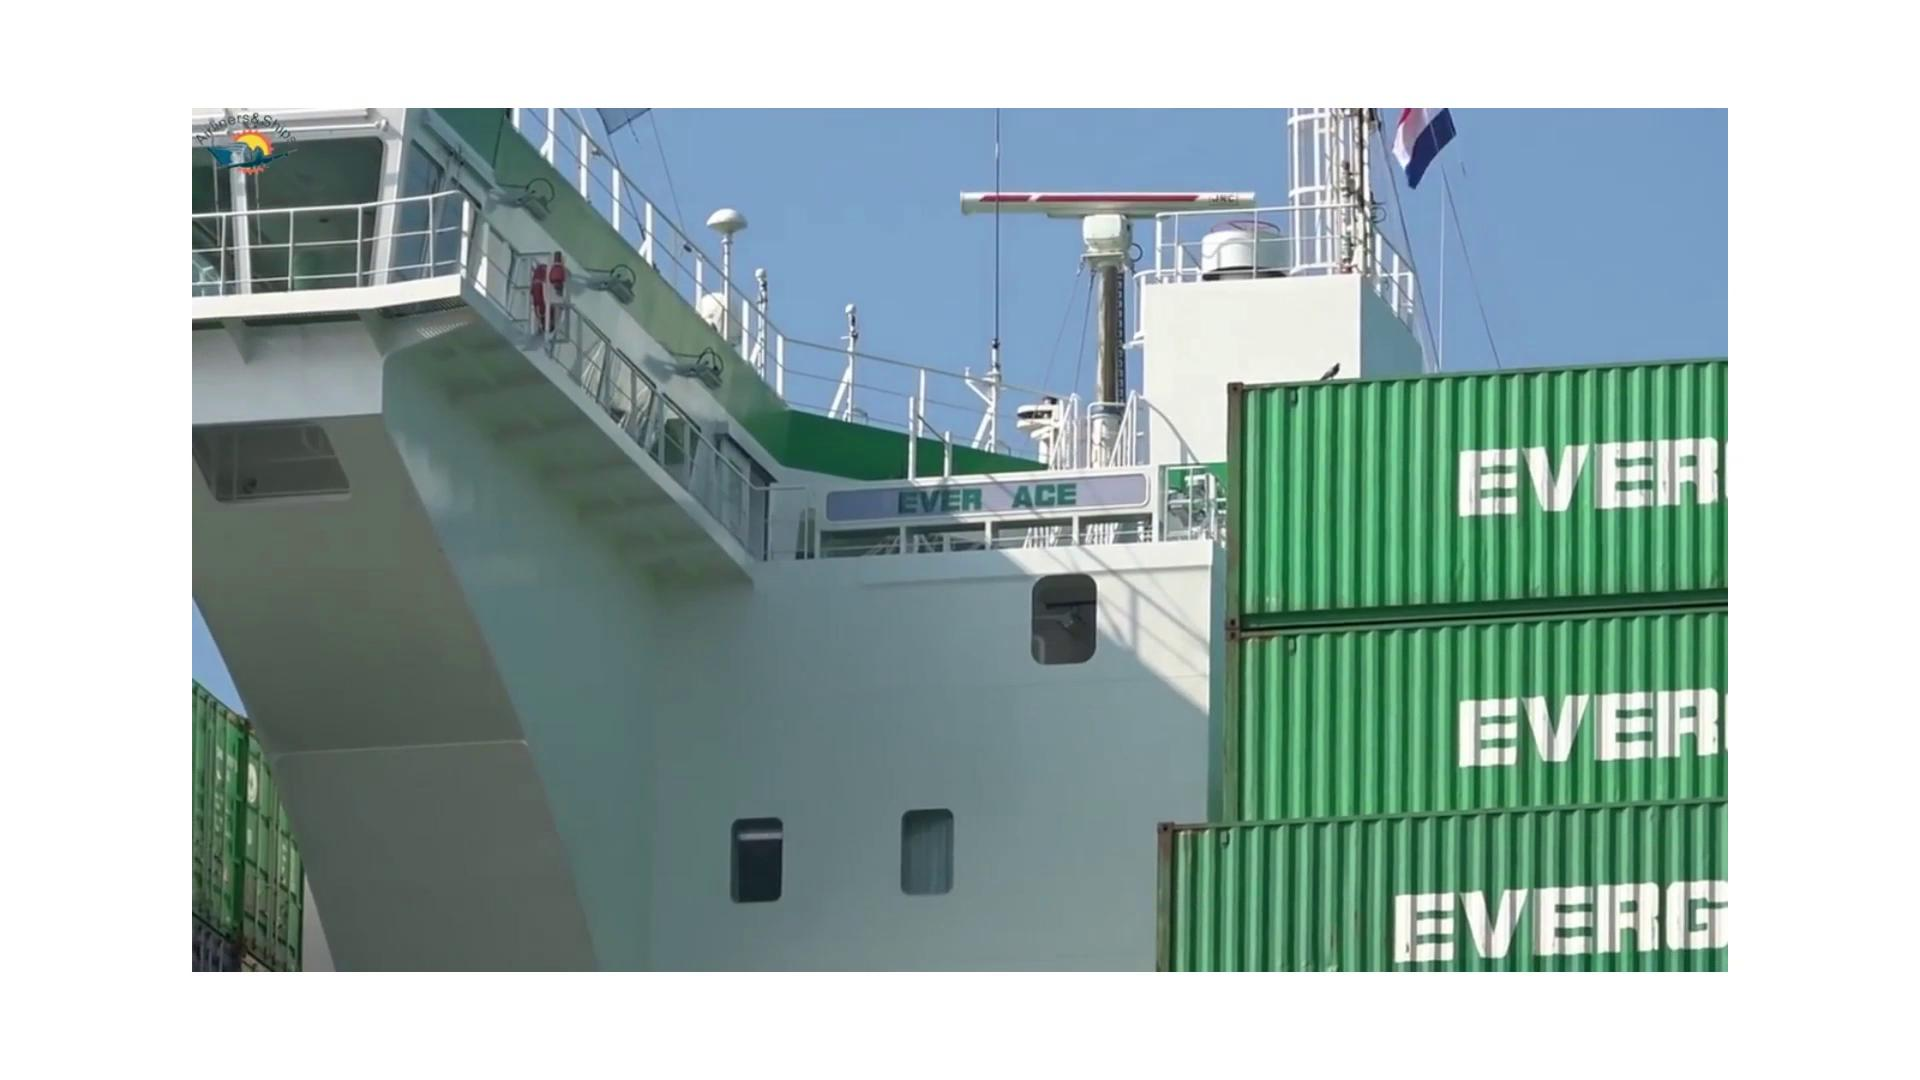OCR: (874, 477, 1110, 526)
